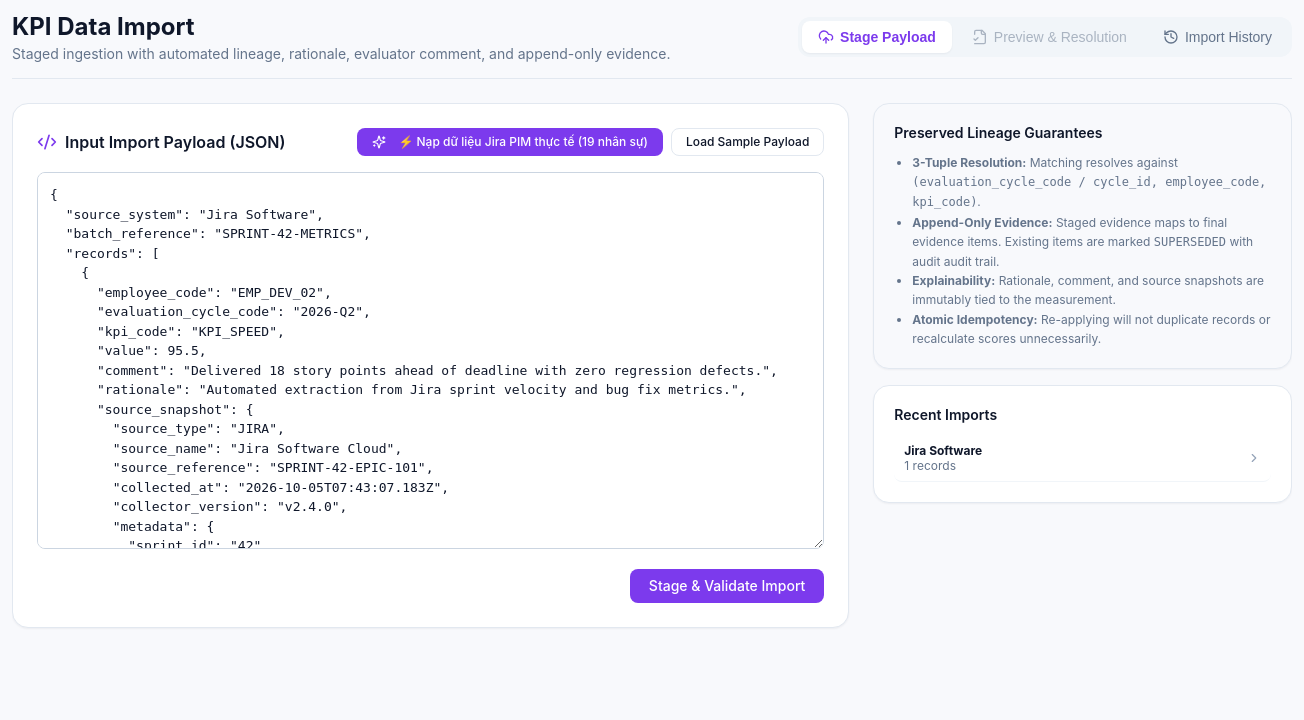
Test case: EvaluationDataImportPage › submits payload and moves to preview tab
Expected: the heading "KPI Data Import" is shown, [12, 12, 194, 41]
Expected: the button "Stage Payload" is shown, [802, 21, 952, 53]
What coordinates should you click on to do the following:
click the button "Stage & Validate Import"
I would click on:
 (727, 586)
Its box is [630, 569, 824, 603].
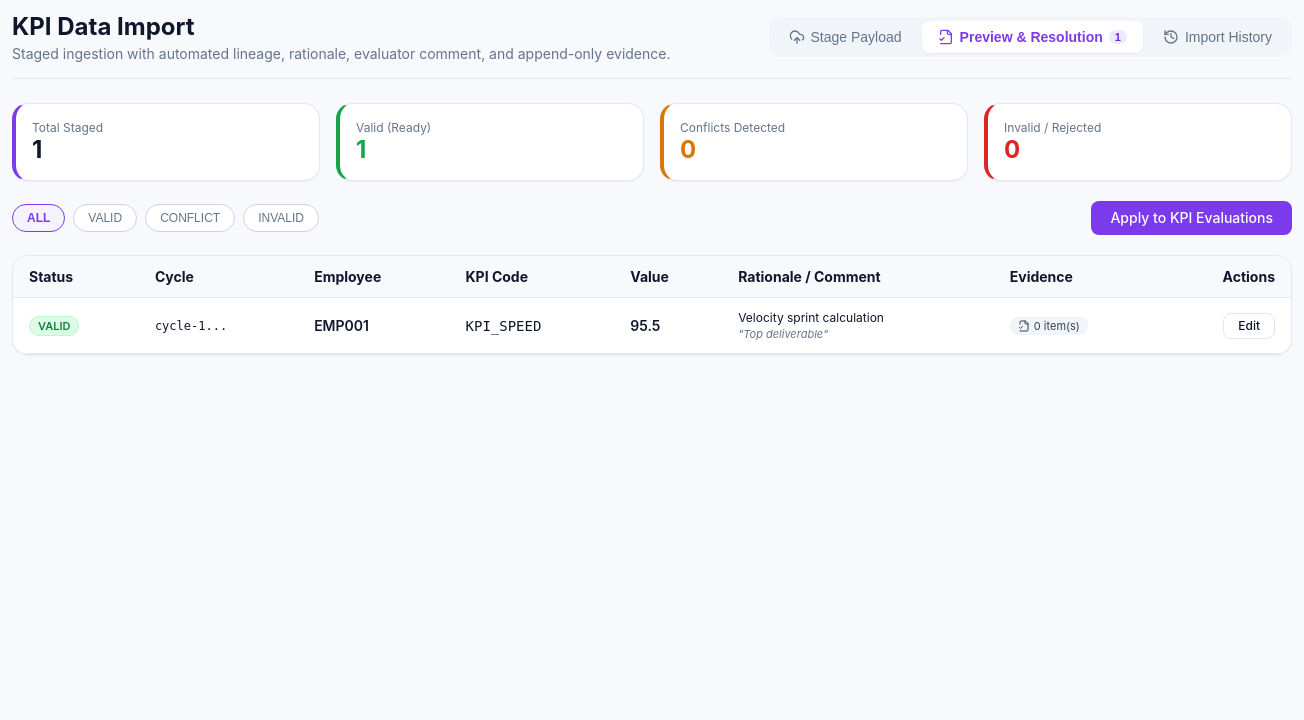
Now the text "EMP001" is shown, box [298, 298, 450, 354]
Now the text "KPI_SPEED" is shown, box [466, 318, 541, 334]
Now the text "95.5" is shown, box [614, 298, 722, 354]
